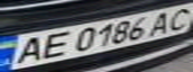0: (72, 25, 96, 53)
1: (93, 20, 118, 48)
6: (127, 13, 157, 42)
8: (112, 18, 136, 45)
A: (6, 34, 51, 65), (145, 9, 178, 37)
C: (160, 4, 193, 32)
E: (33, 29, 75, 61)
